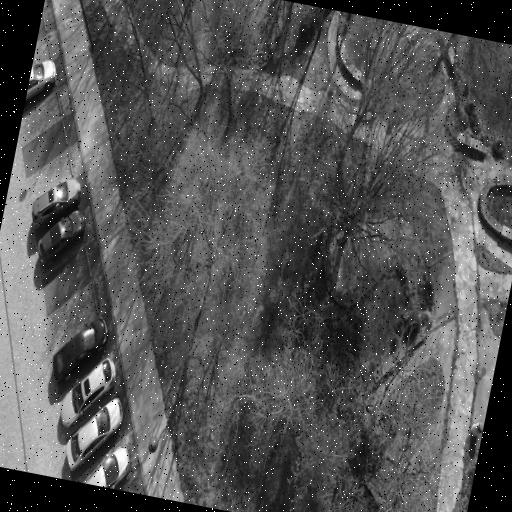person: (66, 398, 122, 470), (60, 359, 115, 427), (53, 318, 108, 381), (38, 211, 85, 266), (32, 178, 81, 229), (85, 446, 129, 488), (25, 61, 56, 102)
